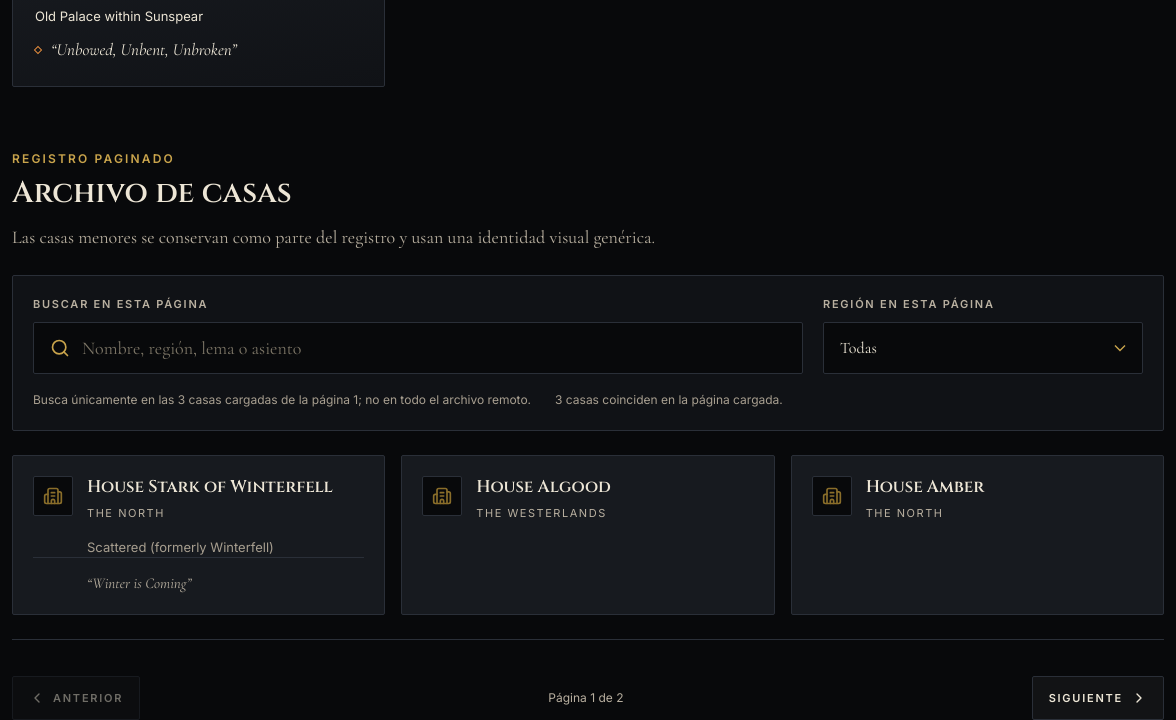
CasasPage › mantiene la paginación remota sin descargar páginas automáticamente
The image size is (1176, 720).
(page scrolled)
Expected: the heading "House Algood" is shown, [476, 475, 611, 498]
Expected: the text "Página 1 de 2" is shown, [548, 690, 624, 706]
Click the button "Siguiente".
click(1098, 698)  # box [1032, 676, 1164, 719]
(page scrolled)
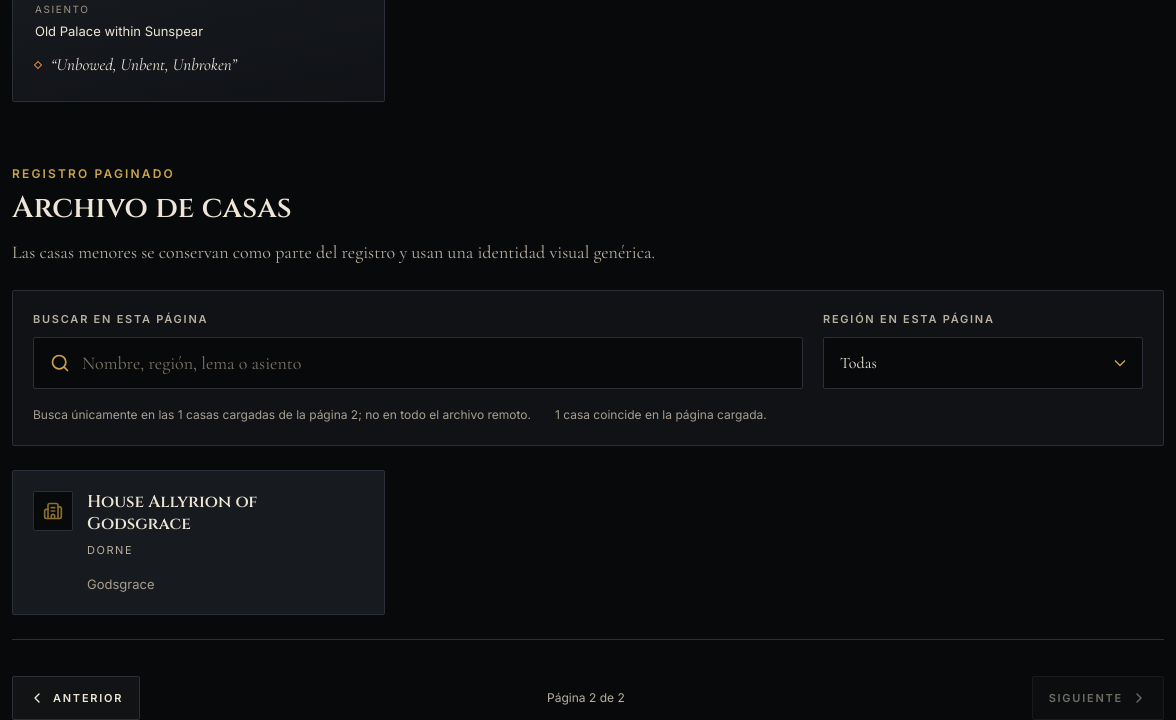
Now the heading "House Allyrion of Godsgrace" is shown, box [87, 490, 257, 535]
Now the text "Página 2 de 2" is shown, box [547, 690, 625, 706]
Now the button "Anterior" is enabled, box [12, 676, 140, 719]
